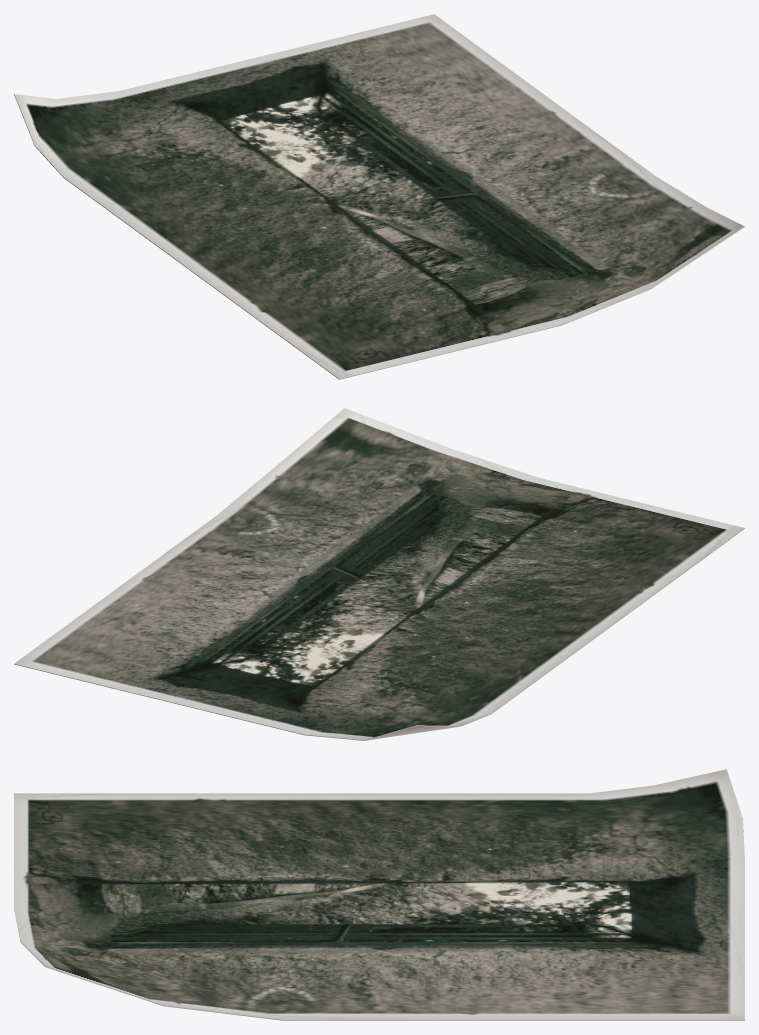
The model's file is Picture_4_Medium.FBX.
3 renders of one model, top to bottom at view 1: azimuth 30°, elevation 25°; view 2: azimuth 150°, elevation 25°; view 3: azimuth 270°, elevation 25°, orthographic. The views are drawn at different scales.
Visible parts, largest first — view 1: Picture_4_Medium; view 2: Picture_4_Medium; view 3: Picture_4_Medium.
Boxes of the visible parts, <box> form: Picture_4_Medium: <box>14,14,744,379</box>; Picture_4_Medium: <box>14,408,744,740</box>; Picture_4_Medium: <box>14,769,744,1020</box>.
Size of the model in its own units: 25.06 by 2.14 by 34.15.
